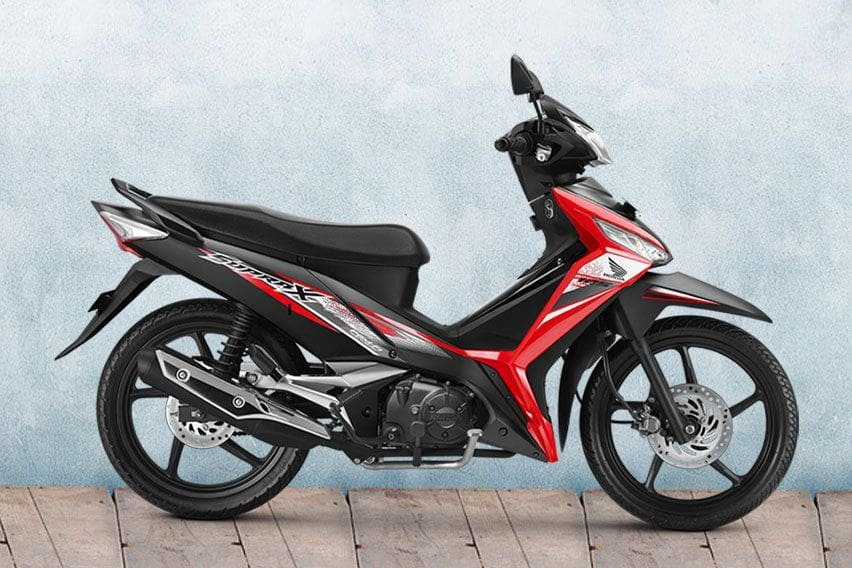motor: (42, 109, 790, 546)
